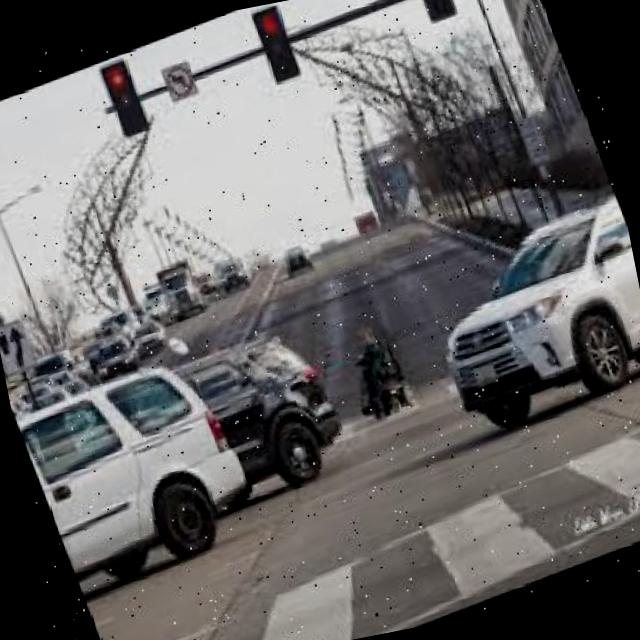Person: (332, 312, 418, 429)
